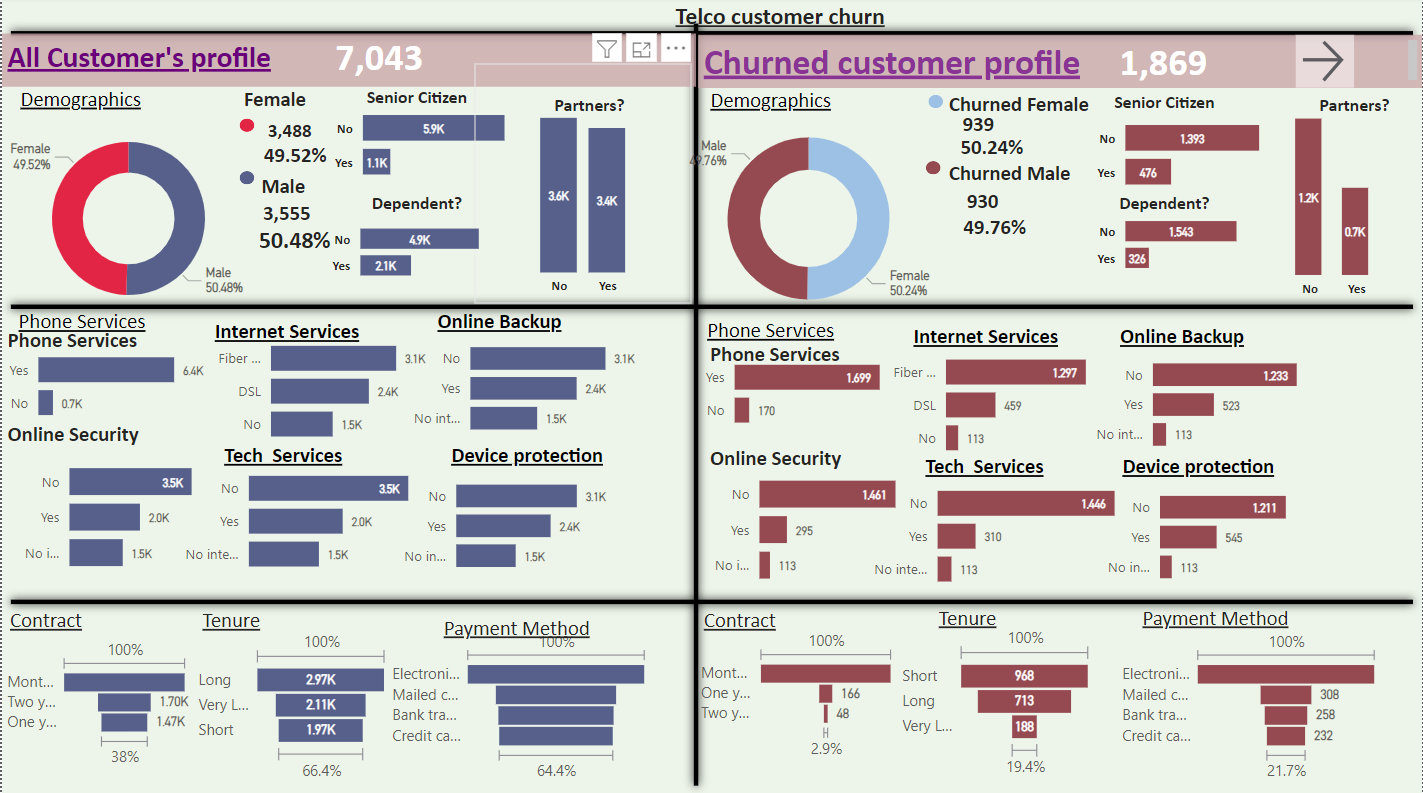

The page's visual inventory and layout, read from the dashboard file:
{"tool":"powerbi","page":{"name":"Home ","canvas":[1280,720],"ordinal":0},"visuals":[{"type":"shape","box":[0,0,1279.9,67.2],"z":0},{"type":"shape","box":[0,256.7,1279.9,46.5],"z":1000},{"type":"shape","box":[0,485.3,1279.9,121],"z":2000},{"type":"textbox","box":[449.6,0,503.7,51.8],"z":3000},{"type":"shape","box":[600.2,17.1,50.1,702.9],"z":4000},{"type":"textbox","box":[627.1,35.4,652.8,47.7],"z":5000},{"type":"textbox","box":[0,34.2,625.9,47.7],"z":6000},{"type":"card","fields":{"Values":["All Measures.Total no of customer"]},"box":[254.3,0,171.1,107.6],"z":7000},{"type":"textbox","box":[0,77,141.8,37.9],"z":8000},{"type":"card","fields":{"Values":["All Measures.Total churned custosmer"]},"box":[977.9,34.2,138.1,47.7],"z":9000},{"type":"textbox","box":[622.2,78.2,141.8,37.9],"z":10000},{"type":"donutChart","fields":{"Category":["Telco Churn Data.gender"],"Y":["CountNonNull(Telco Churn Data.gender)"]},"box":[0,83.1,228.6,234.7],"z":11000},{"type":"card","fields":{"Values":["All Measures.Female churned"]},"box":[218.8,101.5,81.9,41.6],"z":12000},{"type":"card","fields":{"Values":["All Measures.Male churned"]},"box":[213.9,178.5,85.6,37.9],"z":13000},{"type":"textbox","box":[212.7,77,84.3,41.6],"z":14000},{"type":"textbox","box":[228.6,155.2,84.3,41.6],"z":15000},{"type":"shape","box":[213.9,110,13.4,12.2],"z":16000},{"type":"shape","box":[213.9,157.7,13.4,12.2],"z":17000},{"type":"card","fields":{"Values":["All Measures.% Female"]},"box":[226.1,129.6,75.8,30.6],"z":18000},{"type":"card","fields":{"Values":["All Measures.% Male"]},"box":[223.7,205.4,79.5,30.6],"z":19000},{"type":"barChart","title":"Senior Citizen","fields":{"Category":["Telco Churn Data.SeniorCitizen"],"Y":["CountNonNull(Telco Churn Data.SeniorCitizen)"]},"box":[278.7,51.3,196.8,141.8],"z":20000},{"type":"clusteredColumnChart","title":"Senior Citizen","fields":{"Category":["Telco Churn Data.Partner"],"Y":["CountNonNull(Telco Churn Data.Partner)"]},"box":[425.4,61.1,196.8,216.4],"z":21000},{"type":"textbox","box":[317.8,77,112.5,41.6],"z":22000},{"type":"textbox","box":[473.1,83.1,112.5,41.6],"z":23000},{"type":"barChart","title":"Senior Citizen","fields":{"Y":["CountNonNull(Telco Churn Data.Partner)"],"Category":["Telco Churn Data.Dependents"]},"box":[276.3,160.1,196.8,118.6],"z":24000},{"type":"textbox","box":[317.8,172.4,112.5,41.6],"z":25000},{"type":"donutChart","fields":{"Category":["Telco Churn Data.gender"],"Y":["All Measures.Total churned custosmer"]},"box":[606.3,83.1,242,234.7],"z":26000},{"type":"card","fields":{"Values":["All Measures.Churned female"]},"box":[855.7,97.8,50.1,37.9],"z":27000},{"type":"textbox","box":[848.4,80.7,156.5,41.6],"z":28000},{"type":"shape","box":[834.9,89.2,13.4,12.2],"z":29000},{"type":"card","fields":{"Values":["All Measures.Churned male"]},"box":[855.7,169.9,57.5,31.8],"z":30000},{"type":"textbox","box":[848.4,143,144.2,41.6],"z":31000},{"type":"shape","box":[832.5,149.1,13.4,12.2],"z":32000},{"type":"card","fields":{"Values":["All Measures.% Churned Female"]},"box":[855.7,122.2,74.6,30.6],"z":33000},{"type":"card","fields":{"Values":["All Measures.% Churned male"]},"box":[834.9,185.8,119.8,46.5],"z":34000},{"type":"barChart","title":"Senior Citizen","fields":{"Category":["Telco Churn Data.SeniorCitizen"],"Y":["All Measures.Total churned custosmer"]},"box":[965.7,61.1,196.8,141.8],"z":35000},{"type":"textbox","box":[991.4,80.7,112.5,41.6],"z":36000},{"type":"textbox","box":[991.4,172.4,112.5,41.6],"z":37000},{"type":"barChart","title":"Senior Citizen","fields":{"Y":["All Measures.Total churned custosmer"],"Category":["Telco Churn Data.Dependents"]},"box":[965.7,152.8,196.8,118.6],"z":38000},{"type":"clusteredColumnChart","title":"Senior Citizen","fields":{"Category":["Telco Churn Data.Partner"],"Y":["All Measures.Total churned custosmer"]},"box":[1125.8,63.6,149.1,216.4],"z":39000},{"type":"textbox","box":[1162.5,83.1,112.5,41.6],"z":40000},{"type":"textbox","box":[622.2,284.8,141.8,37.9],"z":41000},{"type":"textbox","box":[0,277.5,144.2,37.9],"z":42000},{"type":"barChart","fields":{"Category":["Telco Churn Data.PhoneService"],"Y":["CountNonNull(Telco Churn Data.PhoneService)"]},"box":[0,286,191.9,124.7],"z":43000},{"type":"textbox","box":[0,294.6,136.9,41.6],"z":44000},{"type":"barChart","fields":{"Category":["Telco Churn Data.OnlineSecurity"],"Y":["CountNonNull(Telco Churn Data.OnlineSecurity)"]},"box":[0,399.7,191.9,133.2],"z":45000},{"type":"textbox","box":[0,378.9,136.9,41.6],"z":46000},{"type":"barChart","fields":{"Category":["Telco Churn Data.InternetService"],"Y":["CountNonNull(Telco Churn Data.InternetService)"]},"box":[174.8,290.9,218.8,124.7],"z":47000},{"type":"textbox","box":[178.5,286,157.7,37.9],"z":48000},{"type":"barChart","fields":{"Y":["CountNonNull(Telco Churn Data.TechSupport)"],"Category":["Telco Churn Data.TechSupport"]},"box":[149.1,408.3,244.5,124.7],"z":49000},{"type":"textbox","box":[174.8,397.3,157.7,37.9],"z":50000},{"type":"barChart","fields":{"Category":["Telco Churn Data.OnlineBackup"],"Y":["CountNonNull(Telco Churn Data.OnlineBackup)"]},"box":[350.8,293.4,234.7,114.9],"z":51000},{"type":"textbox","box":[297,277.5,301.9,37.9],"z":52000},{"type":"barChart","fields":{"Y":["CountNonNull(Telco Churn Data.DeviceProtection)"],"Category":["Telco Churn Data.DeviceProtection"]},"box":[343.5,416.8,211.5,114.9],"z":53000},{"type":"textbox","box":[386.3,397.3,173.6,37.9],"z":54000},{"type":"barChart","fields":{"Category":["Telco Churn Data.PhoneService"],"Y":["All Measures.Total churned custosmer"]},"box":[627.1,293.4,191.9,124.7],"z":55000},{"type":"textbox","box":[633.2,306.8,136.9,41.6],"z":56000},{"type":"barChart","fields":{"Category":["Telco Churn Data.OnlineSecurity"],"Y":["All Measures.Total churned custosmer"]},"box":[622.2,410.7,191.9,133.2],"z":57000},{"type":"textbox","box":[633.2,399.7,136.9,41.6],"z":58000},{"type":"barChart","fields":{"Category":["Telco Churn Data.InternetService"],"Y":["All Measures.Total churned custosmer"]},"box":[783.6,303.2,218.8,124.7],"z":59000},{"type":"textbox","box":[808,290.9,157.7,37.9],"z":60000},{"type":"barChart","fields":{"Category":["Telco Churn Data.OnlineBackup"],"Y":["All Measures.Total churned custosmer"]},"box":[965.7,308,234.7,114.9],"z":61000},{"type":"textbox","box":[913.1,290.9,301.9,37.9],"z":62000},{"type":"barChart","fields":{"Category":["Telco Churn Data.TechSupport"],"Y":["All Measures.Total churned custosmer"]},"box":[770.1,421.7,244.5,124.7],"z":63000},{"type":"textbox","box":[806.8,408.3,157.7,37.9],"z":64000},{"type":"barChart","fields":{"Category":["Telco Churn Data.DeviceProtection"],"Y":["All Measures.Total churned custosmer"]},"box":[977.9,426.6,211.5,114.9],"z":65000},{"type":"textbox","box":[991.4,408.3,173.6,37.9],"z":66000},{"type":"textbox","box":[2.4,546.4,136.9,41.6],"z":67000},{"type":"textbox","box":[627.1,546.4,136.9,41.6],"z":68000},{"type":"funnel","fields":{"Category":["Telco Churn Data.Contract"],"Y":["CountNonNull(Telco Churn Data.Contract)"]},"box":[0,574.5,174.8,124.7],"z":69000},{"type":"funnel","fields":{"Category":["Telco Churn Data.Tenure Category"],"Y":["CountNonNull(Telco Churn Data.Tenure Category)"]},"box":[172.4,567.2,182.1,145.5],"z":70000},{"type":"textbox","box":[176,546.4,136.9,41.6],"z":71000},{"type":"funnel","fields":{"Category":["Telco Churn Data.PaymentMethod"],"Y":["CountNonNull(Telco Churn Data.PaymentMethod)"]},"box":[347.2,567.2,242,145.5],"z":72000},{"type":"textbox","box":[393.6,553.8,166.2,41.6],"z":73000},{"type":"funnel","fields":{"Category":["Telco Churn Data.Tenure Category"],"Y":["All Measures.Total churned custosmer"]},"box":[806.8,563.5,182.1,145.5],"z":74000},{"type":"funnel","fields":{"Category":["Telco Churn Data.Contract"],"Y":["All Measures.Total churned custosmer"]},"box":[625.9,567.2,185.8,124.7],"z":75000},{"type":"funnel","fields":{"Category":["Telco Churn Data.PaymentMethod"],"Y":["All Measures.Total churned custosmer"]},"box":[1004.8,567.2,242,145.5],"z":76000},{"type":"textbox","box":[839.8,544,136.9,41.6],"z":77000},{"type":"textbox","box":[1023.2,544,166.2,41.6],"z":78000},{"type":"actionButton","box":[1166.2,35.4,52.6,47.7],"z":79000}]}

Visuals, with their boxes in screenshot pixels (x1, y1, x2, y2), scaled from the page's 1280x720 canvas onto the 1423x793 screenshot:
shape: 0/0/1422/74
shape: 0/283/1422/334
shape: 0/535/1422/668
textbox: 500/0/1060/57
shape: 667/19/723/792
textbox: 697/39/1422/92
textbox: 0/38/696/90
card - All Measures.Total no of customer: 283/0/473/119
textbox: 0/85/158/127
card - All Measures.Total churned custosmer: 1087/38/1241/90
textbox: 692/86/849/128
donutChart - Telco Churn Data.gender x CountNonNull(Telco Churn Data.gender): 0/92/254/350
card - All Measures.Female churned: 243/112/334/158
card - All Measures.Male churned: 238/197/333/238
textbox: 236/85/330/131
textbox: 254/171/348/217
shape: 238/121/253/135
shape: 238/174/253/187
card - All Measures.% Female: 251/143/336/176
card - All Measures.% Male: 249/226/337/260
"Senior Citizen" barChart: 310/57/529/213
"Senior Citizen" clusteredColumnChart: 473/67/692/306
textbox: 353/85/478/131
textbox: 526/92/651/137
"Senior Citizen" barChart: 307/176/526/307
textbox: 353/190/478/236
donutChart - Telco Churn Data.gender x All Measures.Total churned custosmer: 674/92/943/350
card - All Measures.Churned female: 951/108/1007/149
textbox: 943/89/1117/135
shape: 928/98/943/112
card - All Measures.Churned male: 951/187/1015/222
textbox: 943/157/1103/203
shape: 926/164/940/178
card - All Measures.% Churned Female: 951/135/1034/168
card - All Measures.% Churned male: 928/205/1061/256
"Senior Citizen" barChart: 1074/67/1292/223
textbox: 1102/89/1227/135
textbox: 1102/190/1227/236
"Senior Citizen" barChart: 1074/168/1292/299
"Senior Citizen" clusteredColumnChart: 1252/70/1417/308
textbox: 1292/92/1417/137
textbox: 692/314/849/355
textbox: 0/306/160/347
barChart - Telco Churn Data.PhoneService x CountNonNull(Telco Churn Data.PhoneService): 0/315/213/452
textbox: 0/324/152/370
barChart - Telco Churn Data.OnlineSecurity x CountNonNull(Telco Churn Data.OnlineSecurity): 0/440/213/587
textbox: 0/417/152/463
barChart - Telco Churn Data.InternetService x CountNonNull(Telco Churn Data.InternetService): 194/320/438/458
textbox: 198/315/374/357
barChart - CountNonNull(Telco Churn Data.TechSupport) x Telco Churn Data.TechSupport: 166/450/438/587
textbox: 194/438/370/479
barChart - Telco Churn Data.OnlineBackup x CountNonNull(Telco Churn Data.OnlineBackup): 390/323/651/450
textbox: 330/306/666/347
barChart - CountNonNull(Telco Churn Data.DeviceProtection) x Telco Churn Data.DeviceProtection: 382/459/617/586
textbox: 429/438/622/479
barChart - Telco Churn Data.PhoneService x All Measures.Total churned custosmer: 697/323/910/460
textbox: 704/338/856/384
barChart - Telco Churn Data.OnlineSecurity x All Measures.Total churned custosmer: 692/452/905/599
textbox: 704/440/856/486
barChart - Telco Churn Data.InternetService x All Measures.Total churned custosmer: 871/334/1114/471
textbox: 898/320/1074/362
barChart - Telco Churn Data.OnlineBackup x All Measures.Total churned custosmer: 1074/339/1335/466
textbox: 1015/320/1351/362
barChart - Telco Churn Data.TechSupport x All Measures.Total churned custosmer: 856/464/1128/602
textbox: 897/450/1072/491
barChart - Telco Churn Data.DeviceProtection x All Measures.Total churned custosmer: 1087/470/1322/596
textbox: 1102/450/1295/491
textbox: 3/602/155/648
textbox: 697/602/849/648
funnel - Telco Churn Data.Contract x CountNonNull(Telco Churn Data.Contract): 0/633/194/770
funnel - Telco Churn Data.Tenure Category x CountNonNull(Telco Churn Data.Tenure Category): 192/625/394/785
textbox: 196/602/348/648
funnel - Telco Churn Data.PaymentMethod x CountNonNull(Telco Churn Data.PaymentMethod): 386/625/655/785
textbox: 438/610/622/656
funnel - Telco Churn Data.Tenure Category x All Measures.Total churned custosmer: 897/621/1099/781
funnel - Telco Churn Data.Contract x All Measures.Total churned custosmer: 696/625/902/762
funnel - Telco Churn Data.PaymentMethod x All Measures.Total churned custosmer: 1117/625/1386/785
textbox: 934/599/1086/645
textbox: 1138/599/1322/645
actionButton: 1296/39/1355/92
